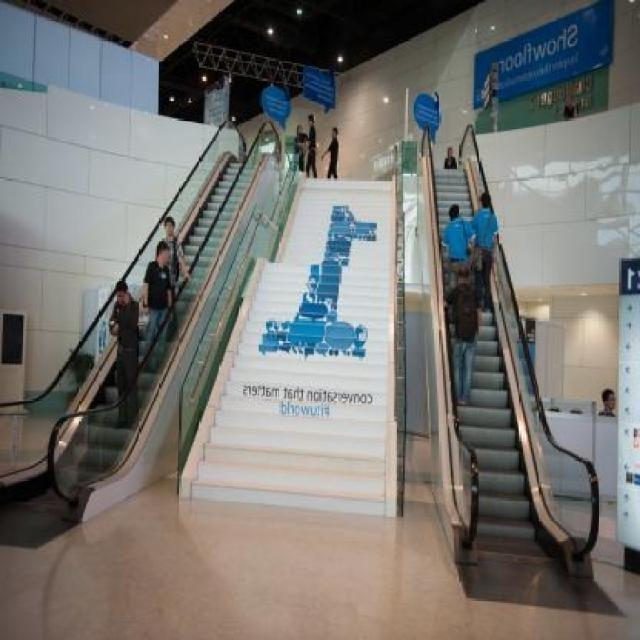stair: (16, 158, 256, 511), (432, 168, 570, 575)
